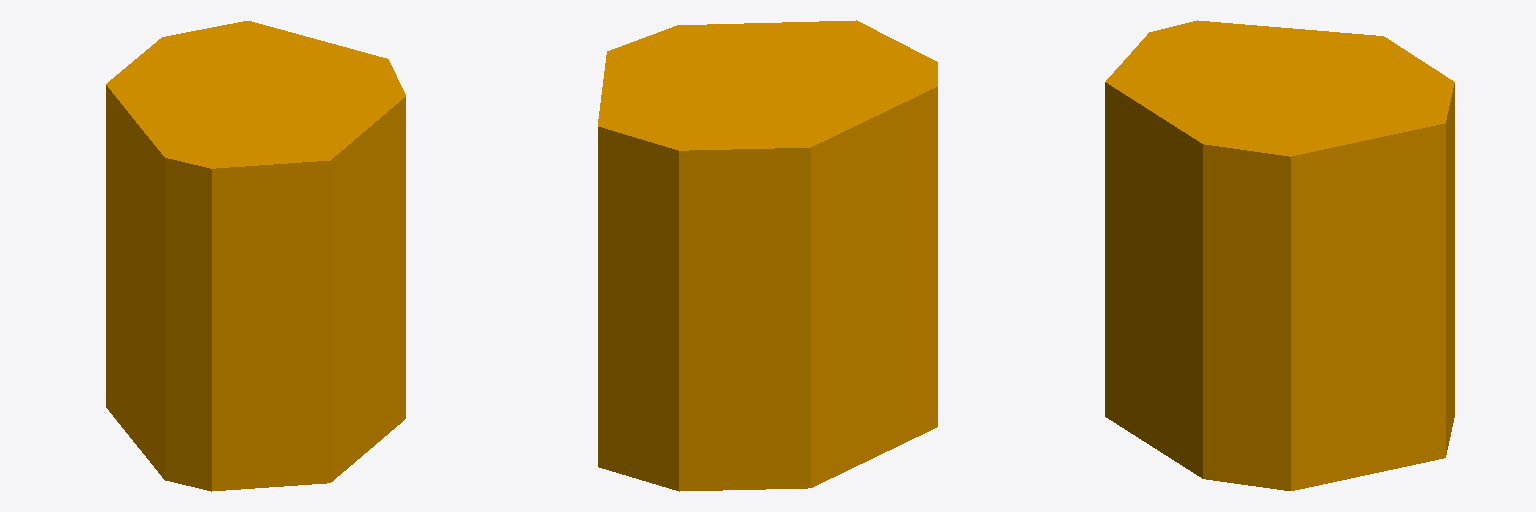
robot.urdf — object:
<?xml version="1.0"?>
<robot name="object">
  <link name="object">
    <visual>
      <origin xyz="0 0 0"/>
      <geometry>
        <mesh filename="meshes/generated/col_056.obj" scale="0.03 0.03 0.03"/>
      </geometry>
    </visual>
    <collision>
      <origin xyz="0 0 0"/>
      <geometry>
        <mesh filename="meshes/generated/col_056.obj" scale="0.03 0.03 0.03"/>
      </geometry>
    </collision>
    <inertial>
      <density value="1000.0"/>
    </inertial>
  </link>
</robot>

--- Render facts (derived) ---
3 views of the same robot in one strip: view 1: azimuth 30°, elevation 25°; view 2: azimuth 150°, elevation 25°; view 3: azimuth 270°, elevation 25° (orthographic).
Model object with 1 links and 0 joints (none), rooted at object, posed all joints at 0.
Links seen in each view (by area): view 1: object; view 2: object; view 3: object.
Boxes of the visible links, x1=… form: object: x1=106, y1=21, x2=405, y2=491; object: x1=598, y1=20, x2=937, y2=491; object: x1=1105, y1=20, x2=1454, y2=490.
Size in the robot's own frame: 0.0523 by 0.0568 by 0.06 metres.
Meshes: 1 distinct files referenced, 1 mesh visuals loaded (1 OBJ).
